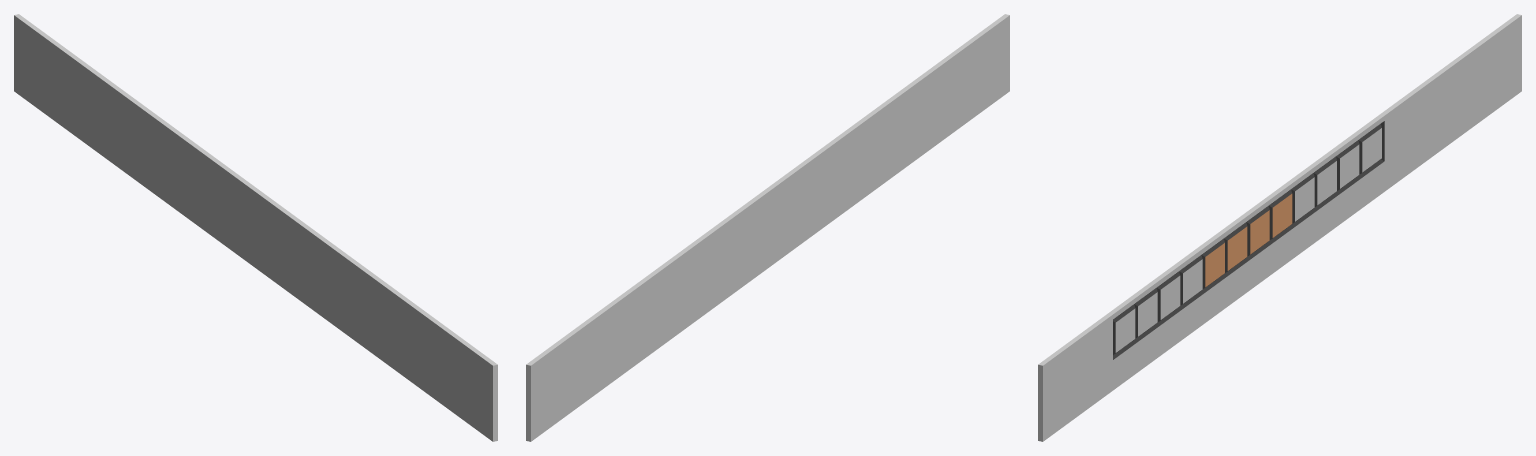
File: outputExponentFrame.glb
3 renders of one model, left to right at view 1: azimuth 30°, elevation 25°; view 2: azimuth 150°, elevation 25°; view 3: azimuth 330°, elevation 25°, orthographic.
Visible parts, largest first — view 1: OutputExponentFrame; view 2: OutputExponentFrame; view 3: OutputExponentFrame.
Part boxes in pixels (<box>): OutputExponentFrame: <box>14,14,497,441</box>; OutputExponentFrame: <box>526,14,1009,441</box>; OutputExponentFrame: <box>1038,14,1521,441</box>.
Size of the model in its own units: 0.001 by 0.015 by 0.171.
